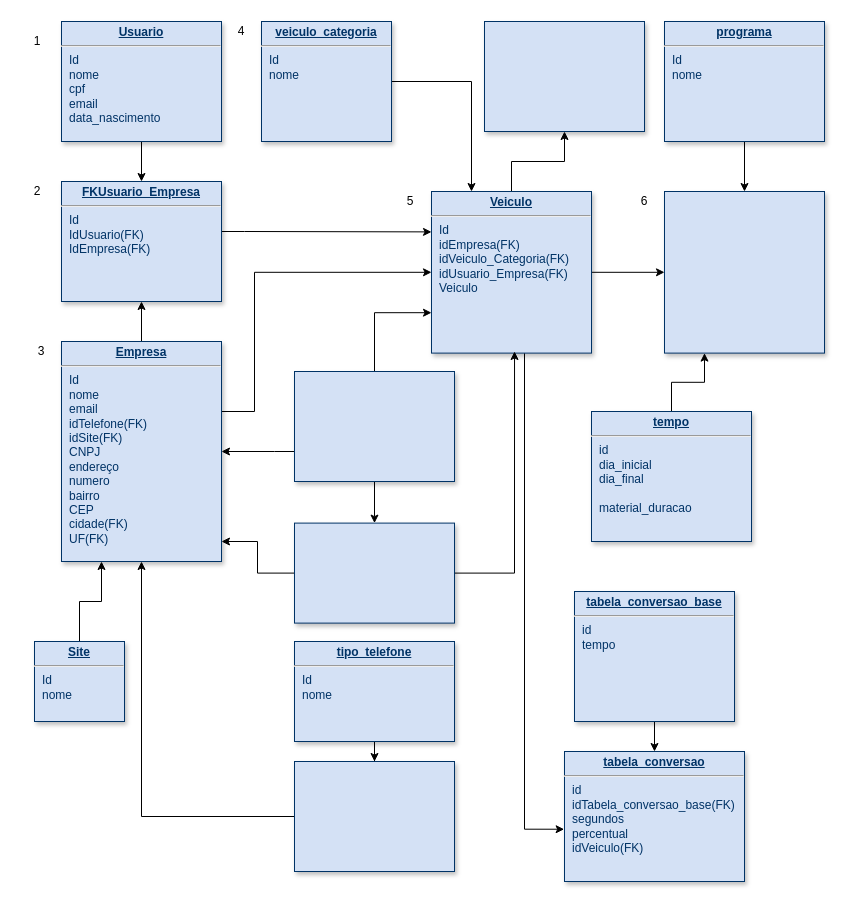
The diagram is 848 pixels wide and 906 high, and some of its shapes have lost their labels. Each missing label, with the centre of its shape:
"cidade Id nome idUF(FK) ibge" goes at point (375, 574).
"FKProgramacao id idVeiculo(FK) IdPrograma(FK) idTempo(FK) valores observacao" goes at point (745, 273).
"FKveiculo_uf_cidade Id idVeiculo(FK) idUF(FK) idCidade(FK)" goes at point (565, 77).
"Telefone Id contato numero idTipo(FK)" goes at point (375, 817).
"uf Id nome uf ibge ddd" goes at point (375, 427).
